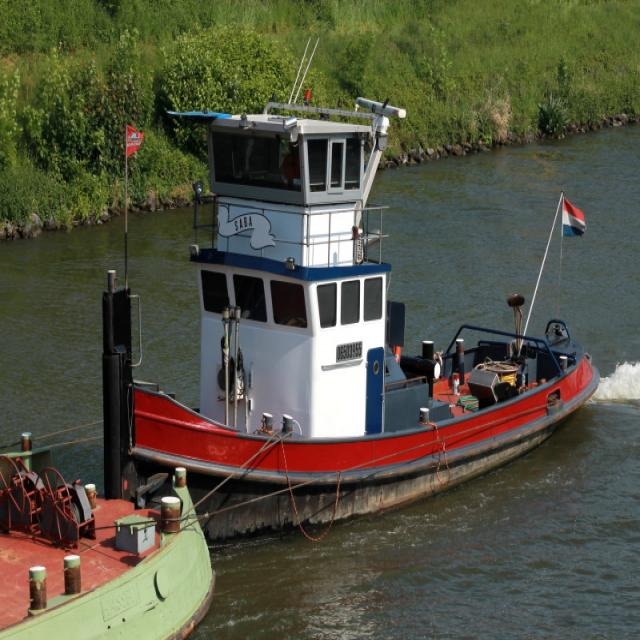tugboat: (100, 33, 606, 562)
